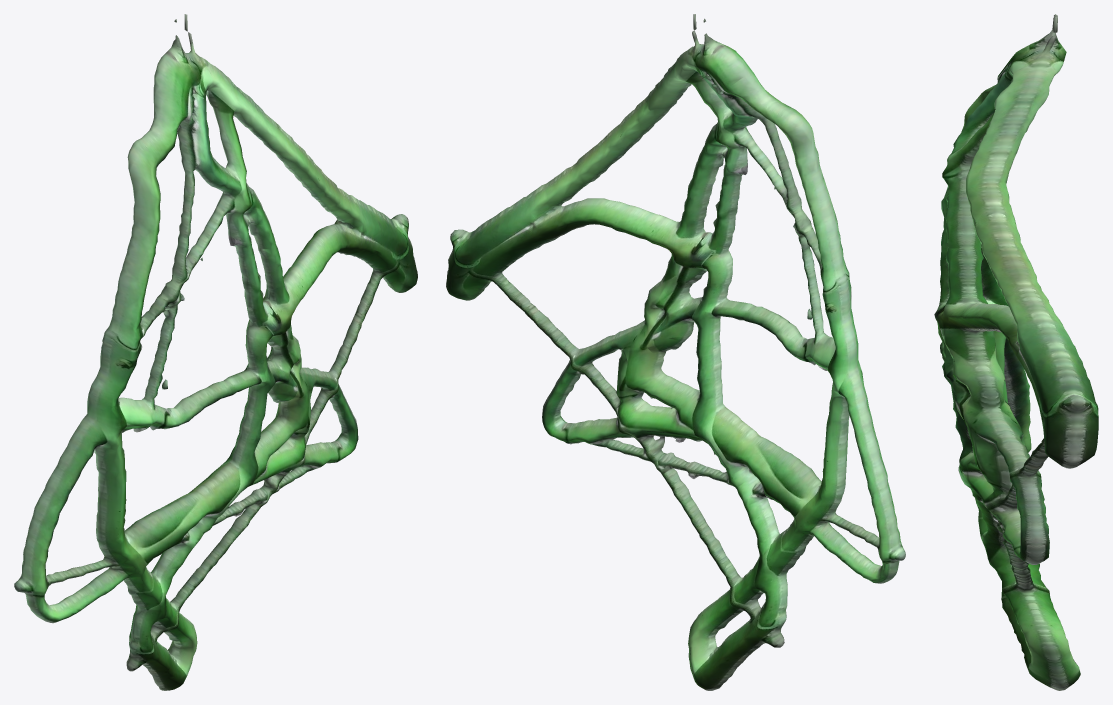
File: hy3d-mov-005.glb
3 views of the same model, side by side, from view 1: azimuth 30°, elevation 25°; view 2: azimuth 150°, elevation 25°; view 3: azimuth 270°, elevation 25° (orthographic).
Parts seen in each view (by area): view 1: world; view 2: world; view 3: world.
Boxes of the visible parts, <box> form: world: <box>14,14,417,690</box>; world: <box>446,14,905,690</box>; world: <box>934,14,1098,690</box>.
Size of the model in its own units: 1.52 by 2.27 by 0.495.
Materials: 1 (1 with a texture image).
